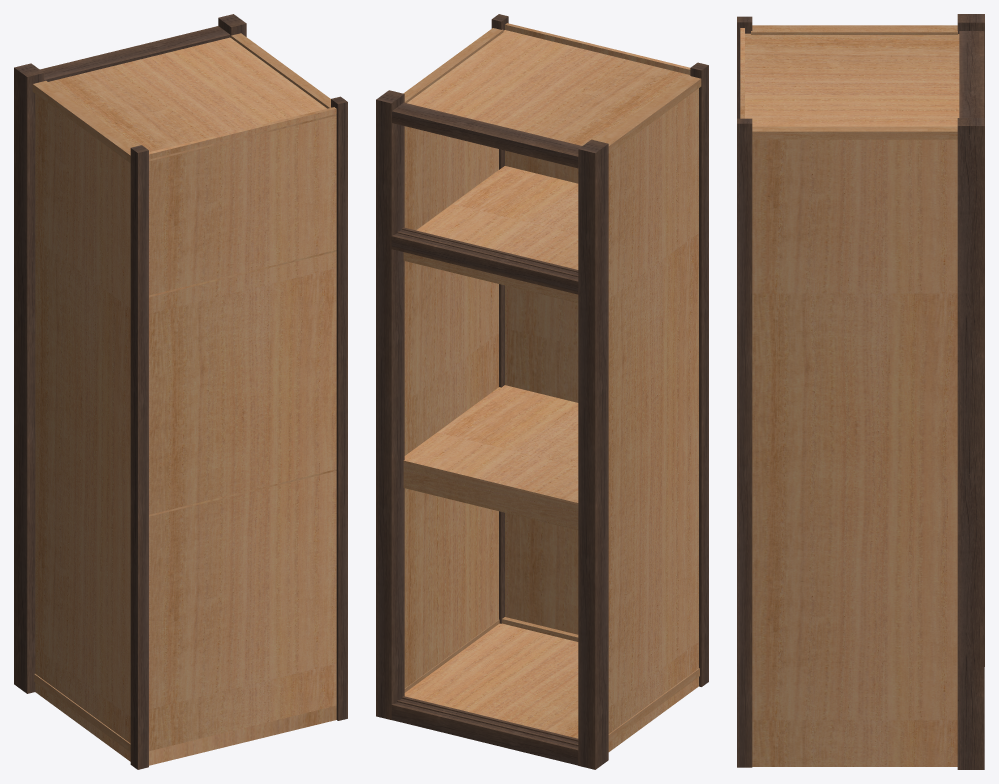
Rendered from inwall_osiire_0t_a.fbx.
The picture shows the model from 3 angles, left to right: view 1: azimuth 30°, elevation 25°; view 2: azimuth 150°, elevation 25°; view 3: azimuth 270°, elevation 25°; orthographic projection. The views are drawn at different scales.
Visible parts, largest first — view 1: inwall_osiire_0t_a; view 2: inwall_osiire_0t_a; view 3: inwall_osiire_0t_a.
Part boxes in pixels (left/top/right/bottom): inwall_osiire_0t_a: left=14, top=14, right=347, bottom=769; inwall_osiire_0t_a: left=376, top=14, right=708, bottom=769; inwall_osiire_0t_a: left=737, top=14, right=984, bottom=769.
Size of the model in its own units: 110 by 296 by 103.
